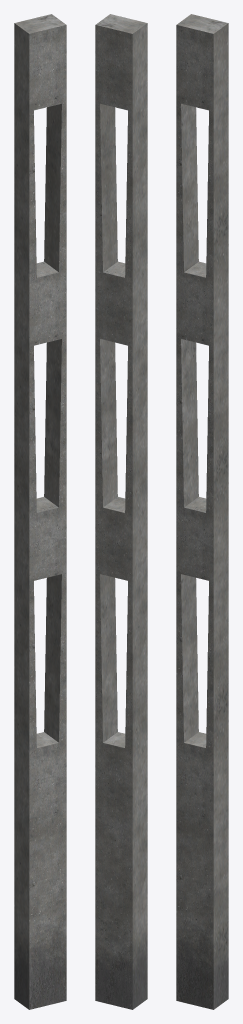
File: single_concrete_pole.glb
The picture shows the model from 3 angles, left to right: view 1: azimuth 30°, elevation 25°; view 2: azimuth 150°, elevation 25°; view 3: azimuth 330°, elevation 25°; orthographic projection.
Visible parts, largest first — view 1: SingleConcretePole_SingleConcretePole_0; view 2: SingleConcretePole_SingleConcretePole_0; view 3: SingleConcretePole_SingleConcretePole_0.
Part boxes in pixels (x1,y1,x2,y2): SingleConcretePole_SingleConcretePole_0: (14,14,66,1009); SingleConcretePole_SingleConcretePole_0: (95,14,147,1009); SingleConcretePole_SingleConcretePole_0: (176,14,228,1009).
Bounding box in the file's own units: 20 × 500 × 13.78.
Materials: 1 (1 with a texture image).
